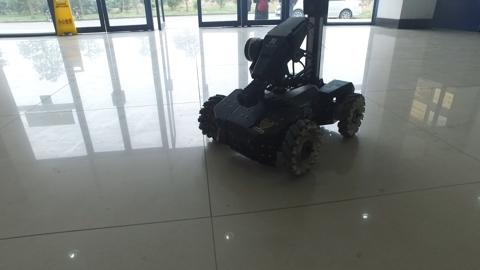car: (272, 1, 364, 24)
chariot: (194, 1, 367, 178)
